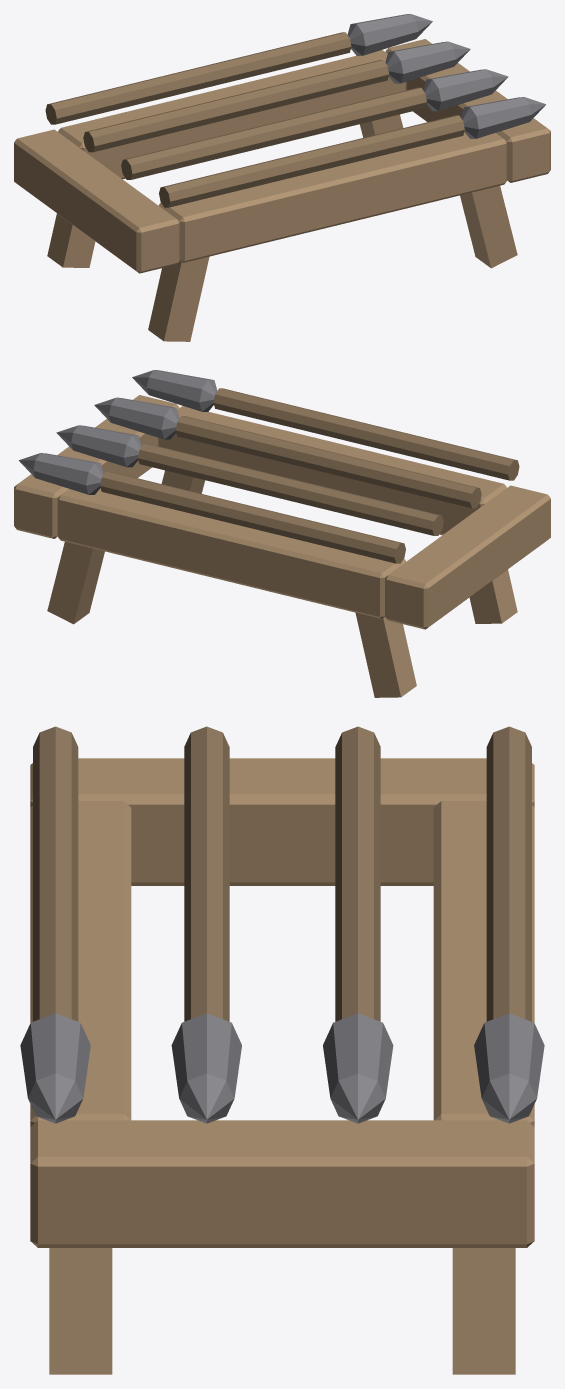
File: prop-ballista-bolt-rack.fbx
3 views of the same model, one above another, from view 1: azimuth 30°, elevation 25°; view 2: azimuth 150°, elevation 25°; view 3: azimuth 270°, elevation 25° (orthographic). The views are drawn at different scales.
Parts seen in each view (by area): view 1: prop-ballista-bolt-rack; view 2: prop-ballista-bolt-rack; view 3: prop-ballista-bolt-rack.
Part boxes in pixels (x1,y1,x2,y2): prop-ballista-bolt-rack: [14, 14, 550, 341]; prop-ballista-bolt-rack: [14, 370, 550, 697]; prop-ballista-bolt-rack: [20, 726, 544, 1374].
Bounding box in the file's own units: 0.76 × 0.2891 × 0.416.
